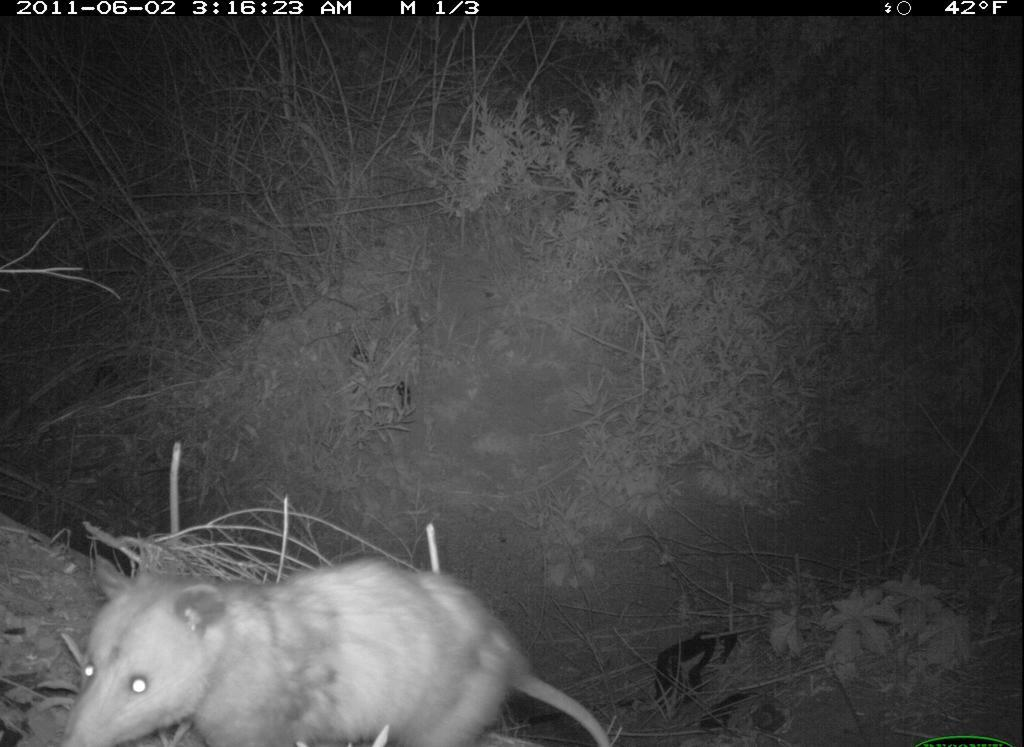opossum: (45, 529, 628, 747)
